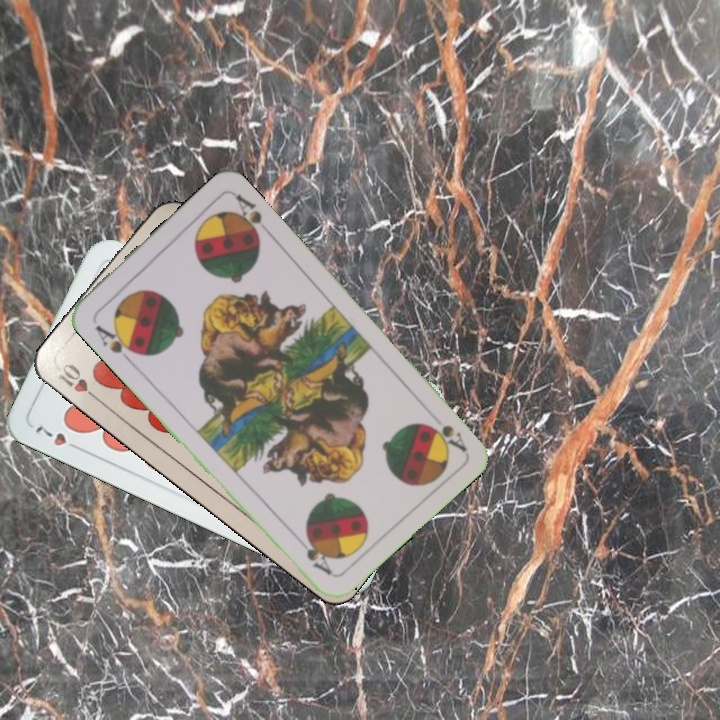H10: (53, 359, 104, 405)
H7: (31, 420, 85, 454)
SA: (90, 321, 142, 366), (422, 418, 469, 454)
